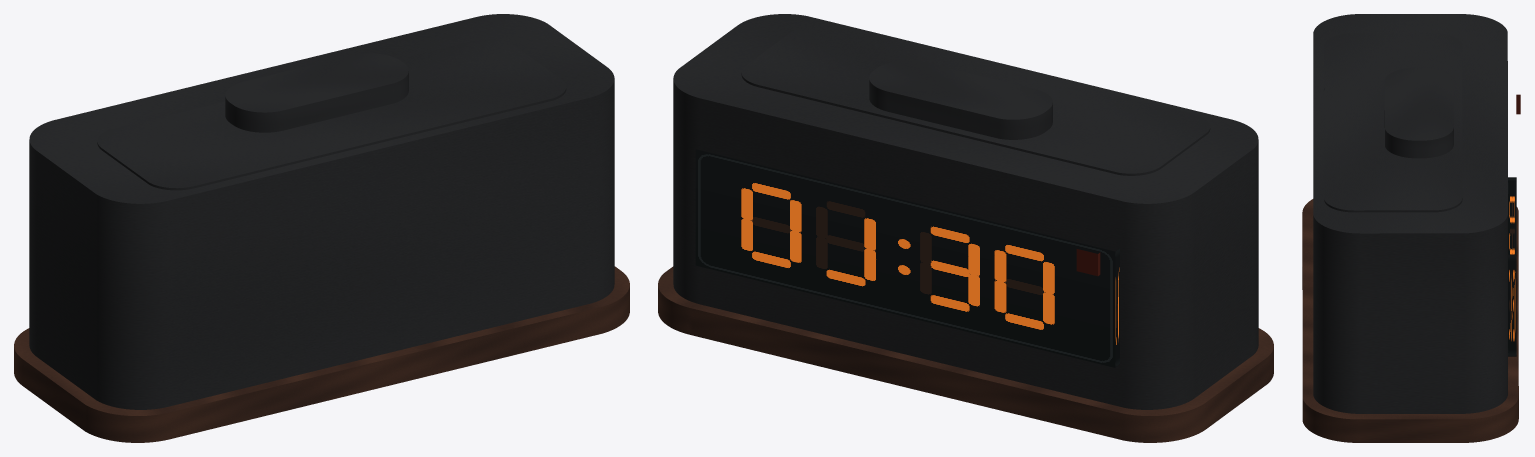
The model's file is Apartment_Digital_Alarm_Clock.glb.
3 renders of one model, left to right at view 1: azimuth 30°, elevation 25°; view 2: azimuth 150°, elevation 25°; view 3: azimuth 270°, elevation 25°, orthographic. The views are drawn at different scales.
Parts seen in each view (by area): view 1: ClockBody, WalnutBase, AlarmButton; view 2: ClockBody, TimeDisplay, WalnutBase, AlarmButton; view 3: ClockBody, WalnutBase, AlarmButton, TimeDisplay.
Boxes of the visible parts, bbox=[...] form: ClockBody: bbox=[29, 14, 614, 409]; WalnutBase: bbox=[14, 266, 629, 442]; AlarmButton: bbox=[225, 53, 408, 132]; ClockBody: bbox=[673, 14, 1258, 409]; TimeDisplay: bbox=[695, 149, 1119, 367]; WalnutBase: bbox=[658, 266, 1273, 442]; AlarmButton: bbox=[869, 60, 1052, 139]; ClockBody: bbox=[1313, 14, 1507, 413]; WalnutBase: bbox=[1302, 199, 1518, 442]; AlarmButton: bbox=[1384, 67, 1453, 158]; TimeDisplay: bbox=[1508, 177, 1516, 356].
Bounding box in the file's own units: 0.252 × 0.114 × 0.1008.
4 materials, 3 textured.
